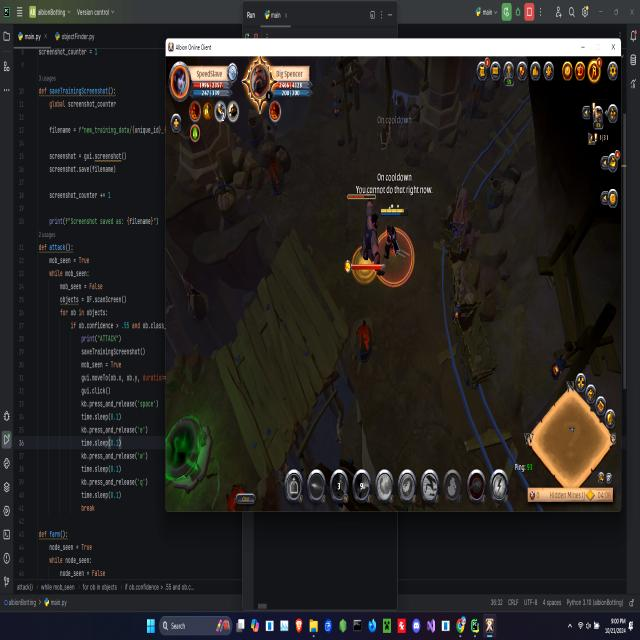ore: (346, 188, 386, 280)
red: (378, 205, 407, 261)
silver: (368, 222, 416, 288)
